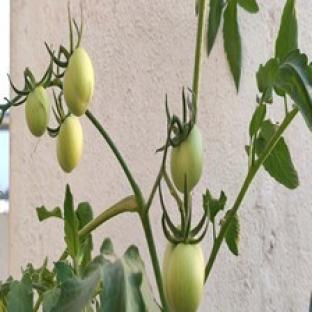Tomato: (163, 244, 204, 311), (170, 124, 203, 192), (63, 48, 94, 115), (58, 115, 83, 172), (26, 87, 50, 136), (163, 243, 175, 305)
